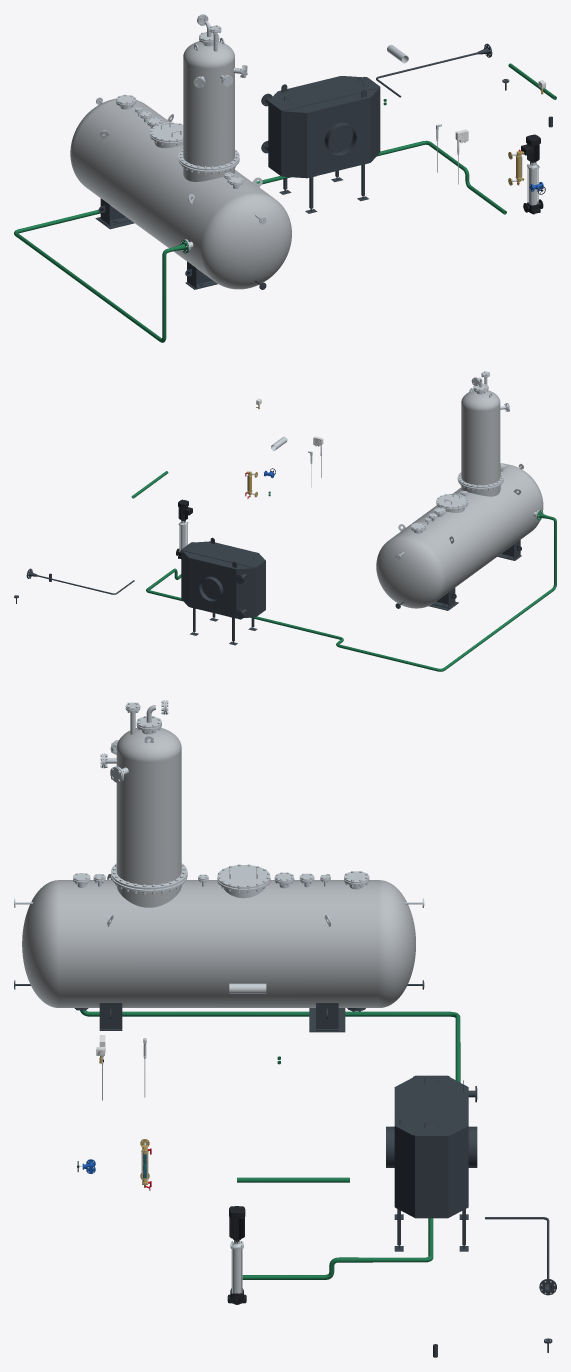
The picture shows the model from 3 angles, top to bottom: view 1: azimuth 30°, elevation 25°; view 2: azimuth 150°, elevation 25°; view 3: azimuth 270°, elevation 25°; orthographic projection. The views are drawn at different scales.
Parts seen in each view (by area): view 1: deaerator CAD solid 56, deaerator CAD solid 257, EQS2-3000 CAD 0, EQS2-3000 CAD 3, deaerator_feed / green, EQS2-3000 CAD 1, suction_common / green, deaerator CAD solid 408, tds_to_fv / dark, pump_1 CAD solid 15; view 2: deaerator CAD solid 56, deaerator CAD solid 257, EQS2-3000 CAD 0, EQS2-3000 CAD 3, deaerator_feed / green, EQS2-3000 CAD 2, suction_common / green, deaerator CAD solid 408; view 3: deaerator CAD solid 56, EQS2-3000 CAD 3, deaerator CAD solid 257, deaerator_feed / green, suction_common / green, EQS2-3000 CAD 0, deaerator CAD solid 408.
Boxes of the visible parts, box(x1,y1,x2,y2) form: deaerator CAD solid 56: box(70, 98, 291, 289); deaerator CAD solid 257: box(183, 41, 234, 166); EQS2-3000 CAD 0: box(279, 97, 370, 213); EQS2-3000 CAD 3: box(268, 76, 380, 176); deaerator_feed / green: box(14, 209, 188, 342); EQS2-3000 CAD 1: box(281, 111, 307, 178); suction_common / green: box(256, 140, 506, 214); deaerator CAD solid 408: box(150, 123, 183, 141); tds_to_fv / dark: box(376, 43, 492, 97); pump_1 CAD solid 15: box(521, 134, 540, 161); deaerator CAD solid 56: box(376, 464, 543, 608); deaerator CAD solid 257: box(461, 390, 500, 485); EQS2-3000 CAD 0: box(188, 558, 257, 645); EQS2-3000 CAD 3: box(181, 537, 265, 616); deaerator_feed / green: box(322, 510, 556, 671); EQS2-3000 CAD 2: box(235, 568, 255, 619); suction_common / green: box(146, 568, 322, 635); deaerator CAD solid 408: box(436, 494, 468, 508); deaerator CAD solid 56: box(22, 880, 415, 1007); EQS2-3000 CAD 3: box(394, 1075, 468, 1218); deaerator CAD solid 257: box(116, 727, 181, 885); deaerator_feed / green: box(80, 1010, 460, 1082); suction_common / green: box(242, 1218, 433, 1279); EQS2-3000 CAD 0: box(386, 1126, 477, 1251); deaerator CAD solid 408: box(217, 865, 270, 888).
Bounding box in the file's own units: 8.53 × 4.81 × 6.02.
